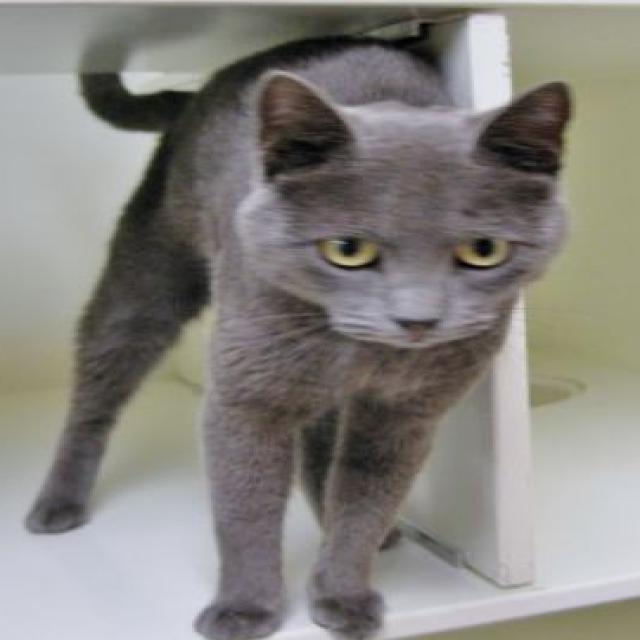Russian Blue: (14, 28, 585, 640)
